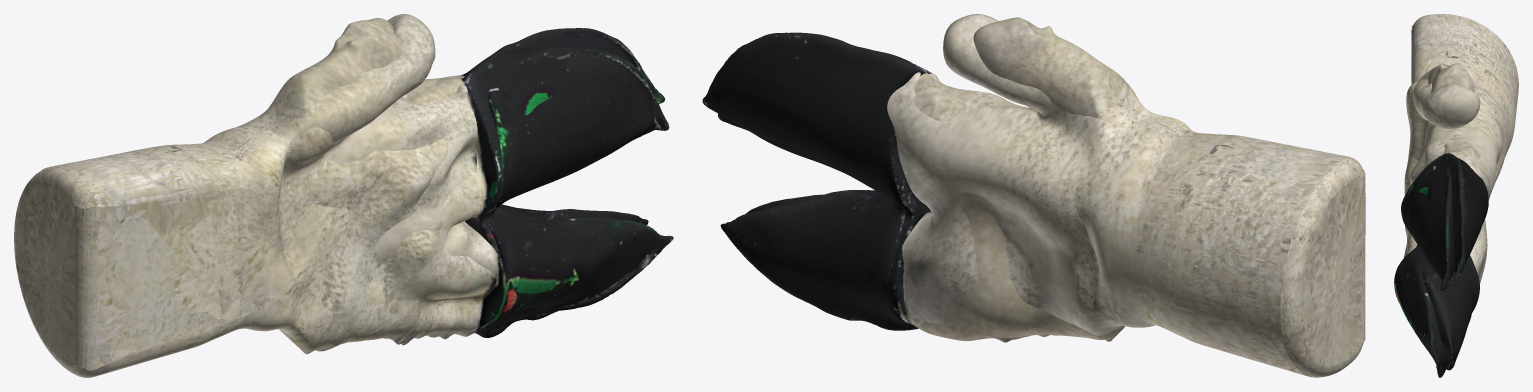
File: gloves_tripo.glb
3 views of the same model, side by side, from view 1: azimuth 30°, elevation 25°; view 2: azimuth 150°, elevation 25°; view 3: azimuth 270°, elevation 25° (orthographic). The views are drawn at different scales.
Visible parts, largest first — view 1: Glove_R_tripo, Glove_L_tripo; view 2: Glove_L_tripo, Glove_R_tripo; view 3: Glove_R_tripo, Glove_L_tripo.
Part boxes in pixels (box(x1,y1,x2,y2)): Glove_R_tripo: box(14, 14, 673, 377); Glove_L_tripo: box(14, 18, 665, 377); Glove_L_tripo: box(702, 17, 1365, 377); Glove_R_tripo: box(718, 14, 1365, 377); Glove_R_tripo: box(1394, 14, 1518, 377); Glove_L_tripo: box(1394, 14, 1518, 370).
Bounding box in the file's own units: 0.2828 × 0.1486 × 0.0703.
2 materials, 2 textured.
